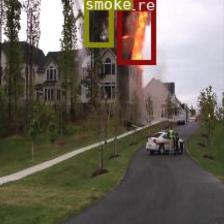fire: (116, 0, 154, 64)
smoke: (84, 0, 113, 47)
